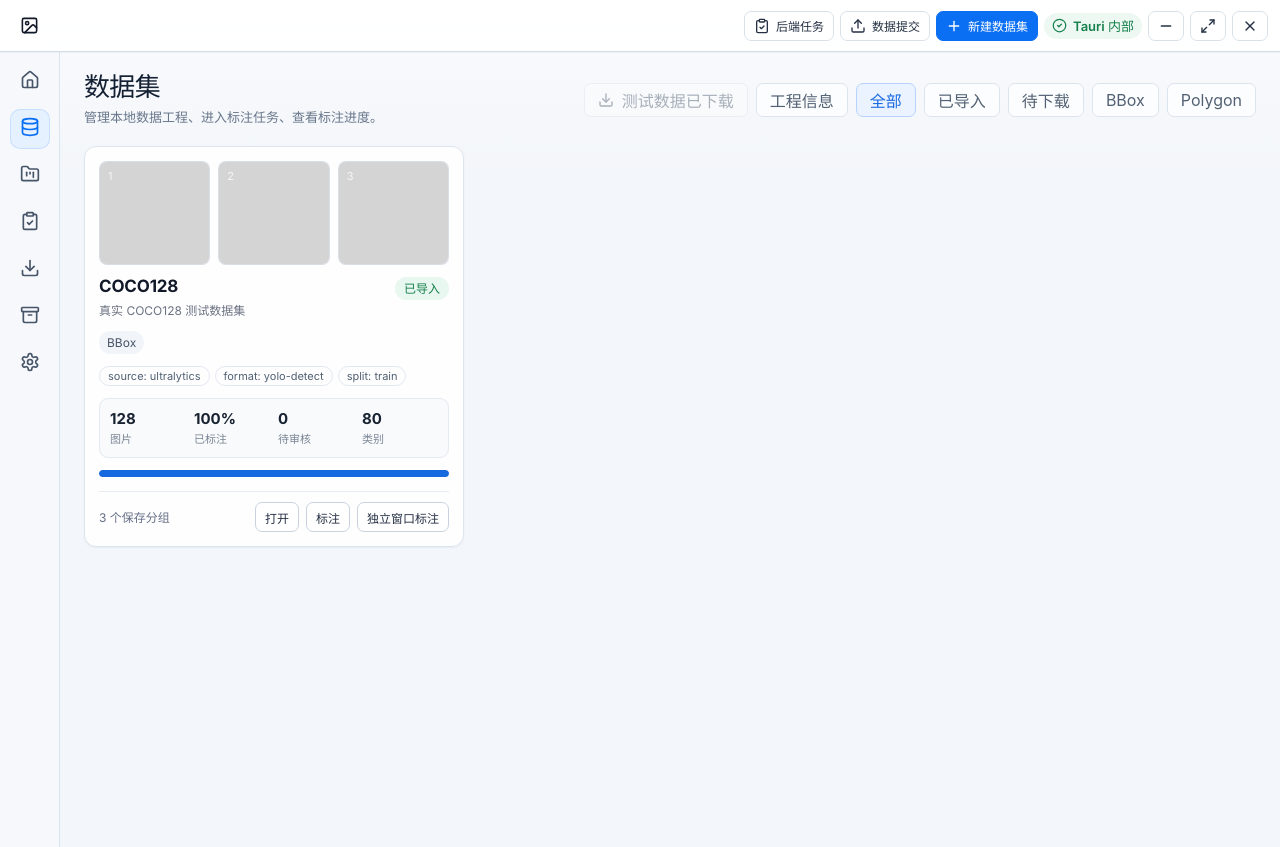
Test: desktop shell › 数据集详情页顶部栏返回按钮回到数据集列表
The width and height of the screenshot is (1280, 847).
Click the button "打开". click: (277, 517)
box: [255,502,299,532]
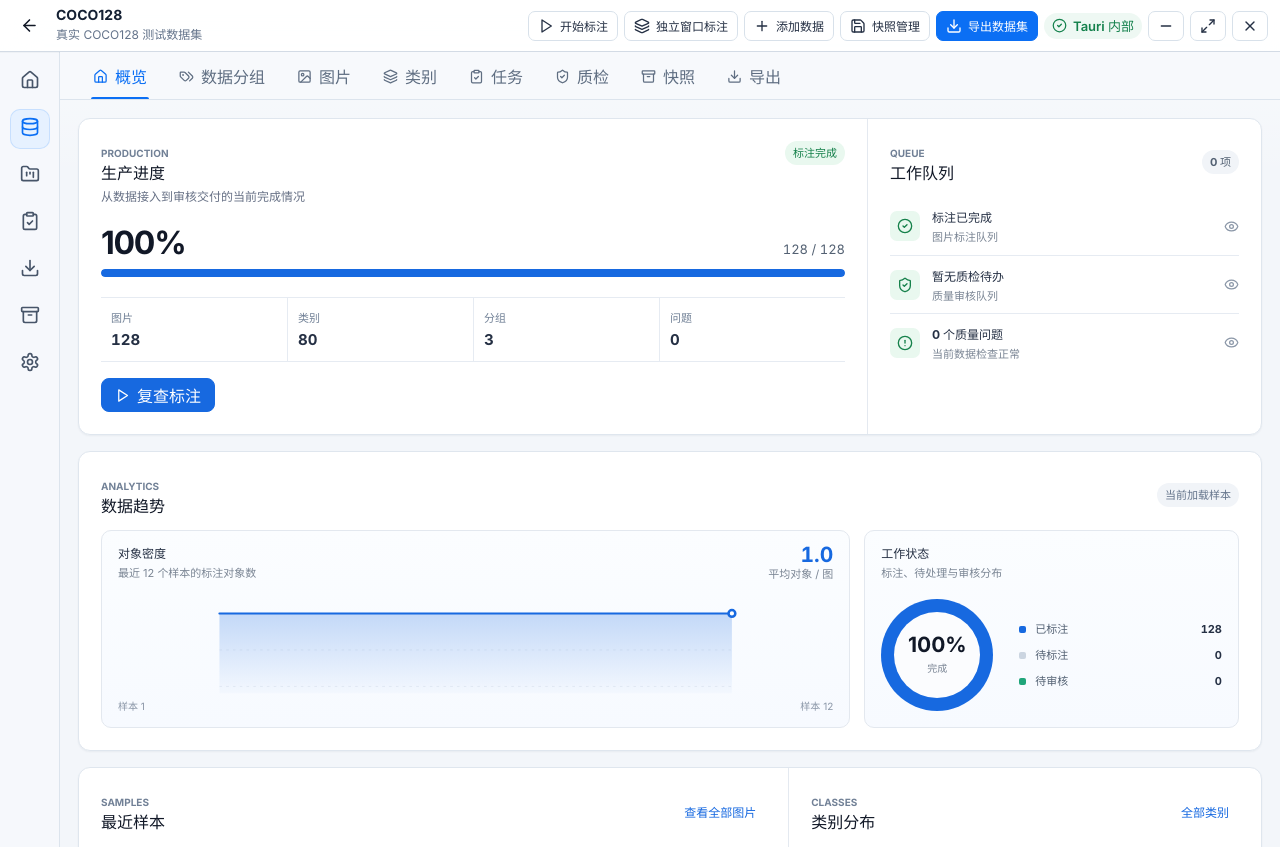
Click the button named "返回数据集列表". click: (29, 26)
box: [12,10,46,40]
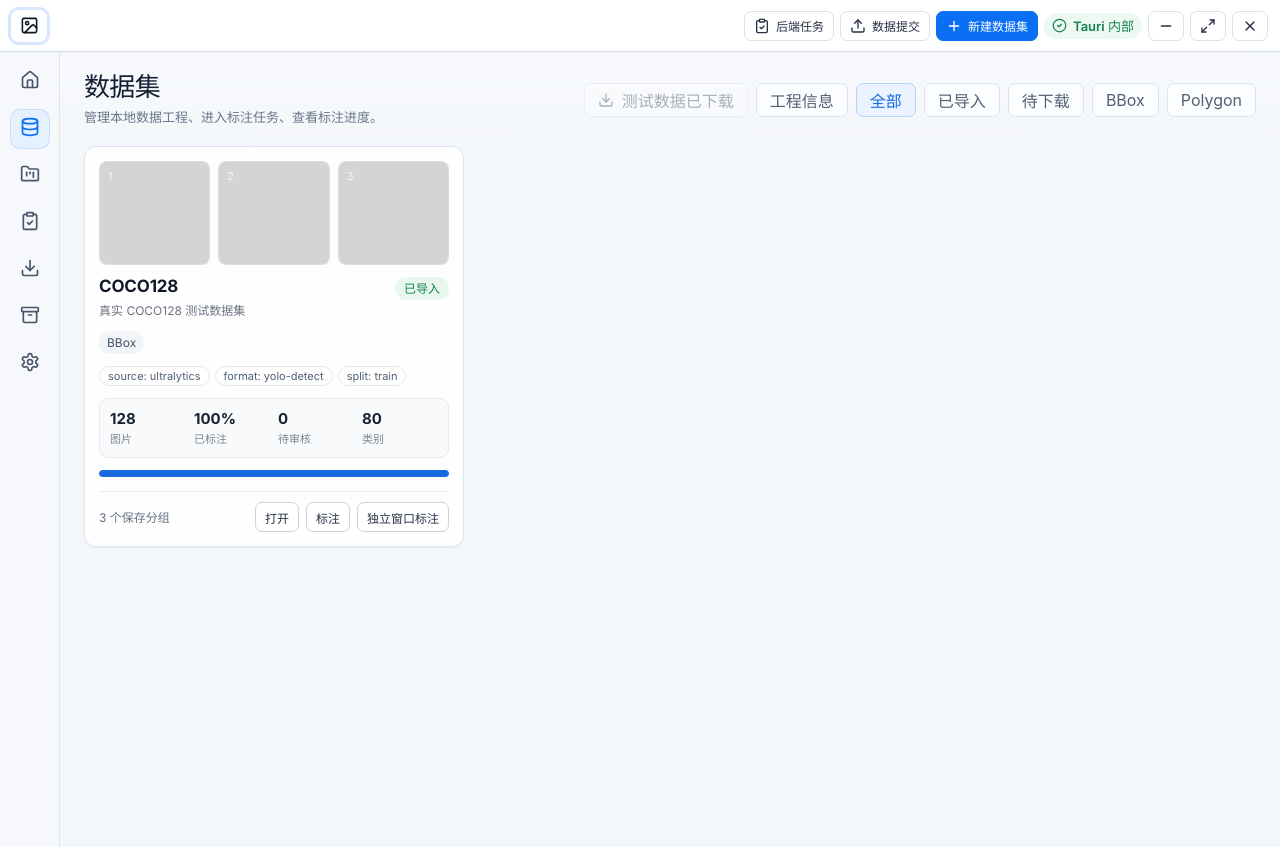
Result: the heading "数据集" is shown at [84,72,160,103]
Result: the element named "COCO128 数据集卡片" is shown at [84,146,464,547]
